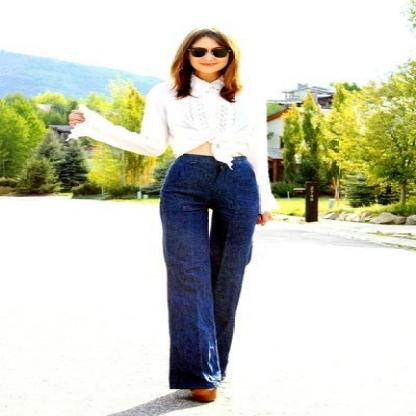pants: (146, 153, 261, 390)
shirt: (69, 76, 278, 214)
shoe: (187, 386, 215, 404)
